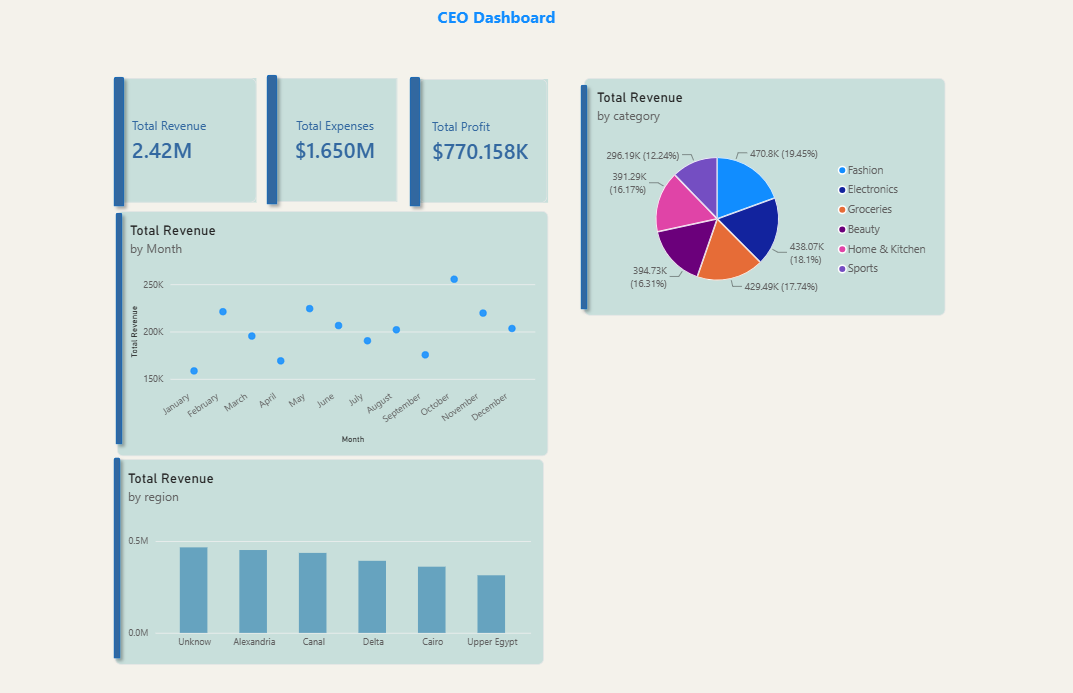

The page's visual inventory and layout, read from the dashboard file:
{"tool":"powerbi","page":{"name":"Page 1","canvas":[1920,1080],"ordinal":0},"visuals":[{"type":"cardVisual","fields":{"Data":["customers.Total Revenue"]},"box":[326,42,181,164],"z":0},{"type":"cardVisual","fields":{"Data":["customers.tottal cost"]},"box":[528,42.1,164.6,163.3],"z":1000},{"type":"cardVisual","fields":{"Data":["customers.total profit"]},"box":[721.8,43.5,169.9,163.3],"z":2000},{"type":"columnChart","fields":{"Category":["orders.region"],"Y":["customers.total revenue"]},"box":[321,543.9,565,271],"z":4000},{"type":"pieChart","fields":{"Category":["products.category"],"Y":["customers.total revenue"]},"box":[939.1,42.1,476,313],"z":5000},{"type":"shape","box":[925.9,42.1,26.3,313.5],"z":6000},{"type":"shape","box":[310.8,31.6,31.6,188.3],"z":8000},{"type":"shape","box":[512.2,29,31.6,188.3],"z":9000},{"type":"shape","box":[700.7,31.6,31.6,188.3],"z":10000},{"type":"shape","box":[311.1,533.4,26.3,281.9],"z":11000},{"type":"scatterChart","fields":{"X":["orders.order_date.Variation.Date Hierarchy.Month"],"Y":["customers.Total Revenue"]},"box":[324,217.3,567.7,322.7],"z":11001},{"type":"shape","box":[313.5,210.7,26.3,322.7],"z":11002}]}

Visuals, with their boxes on the page's 1920x1080 design canvas (x1, y1, x2, y2). These are canvas units, not pixel positions in the 1073x693 screenshot, which may show the page scaled, cropped or inside an application window:
cardVisual - customers.Total Revenue: x1=326, y1=42, x2=507, y2=206
cardVisual - customers.tottal cost: x1=528, y1=42, x2=693, y2=205
cardVisual - customers.total profit: x1=722, y1=44, x2=892, y2=207
columnChart - orders.region x customers.total revenue: x1=321, y1=544, x2=886, y2=815
pieChart - products.category x customers.total revenue: x1=939, y1=42, x2=1415, y2=355
shape: x1=926, y1=42, x2=952, y2=356
shape: x1=311, y1=32, x2=342, y2=220
shape: x1=512, y1=29, x2=544, y2=217
shape: x1=701, y1=32, x2=732, y2=220
shape: x1=311, y1=533, x2=337, y2=815
scatterChart - orders.order_date.Variation.Date Hierarchy.Month x customers.Total Revenue: x1=324, y1=217, x2=892, y2=540
shape: x1=314, y1=211, x2=340, y2=533
